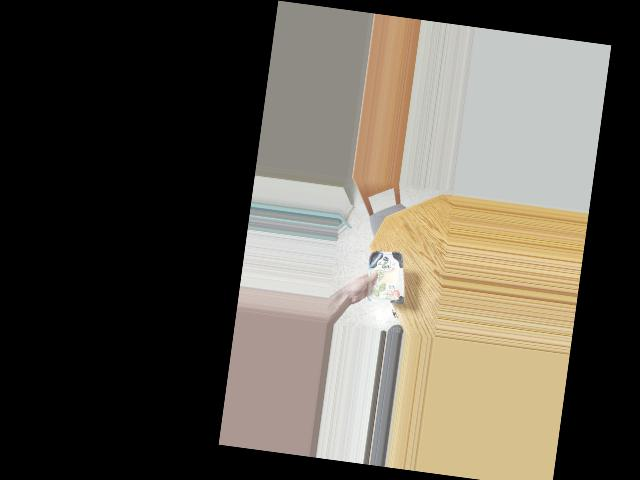cheese: (364, 250, 406, 301)
